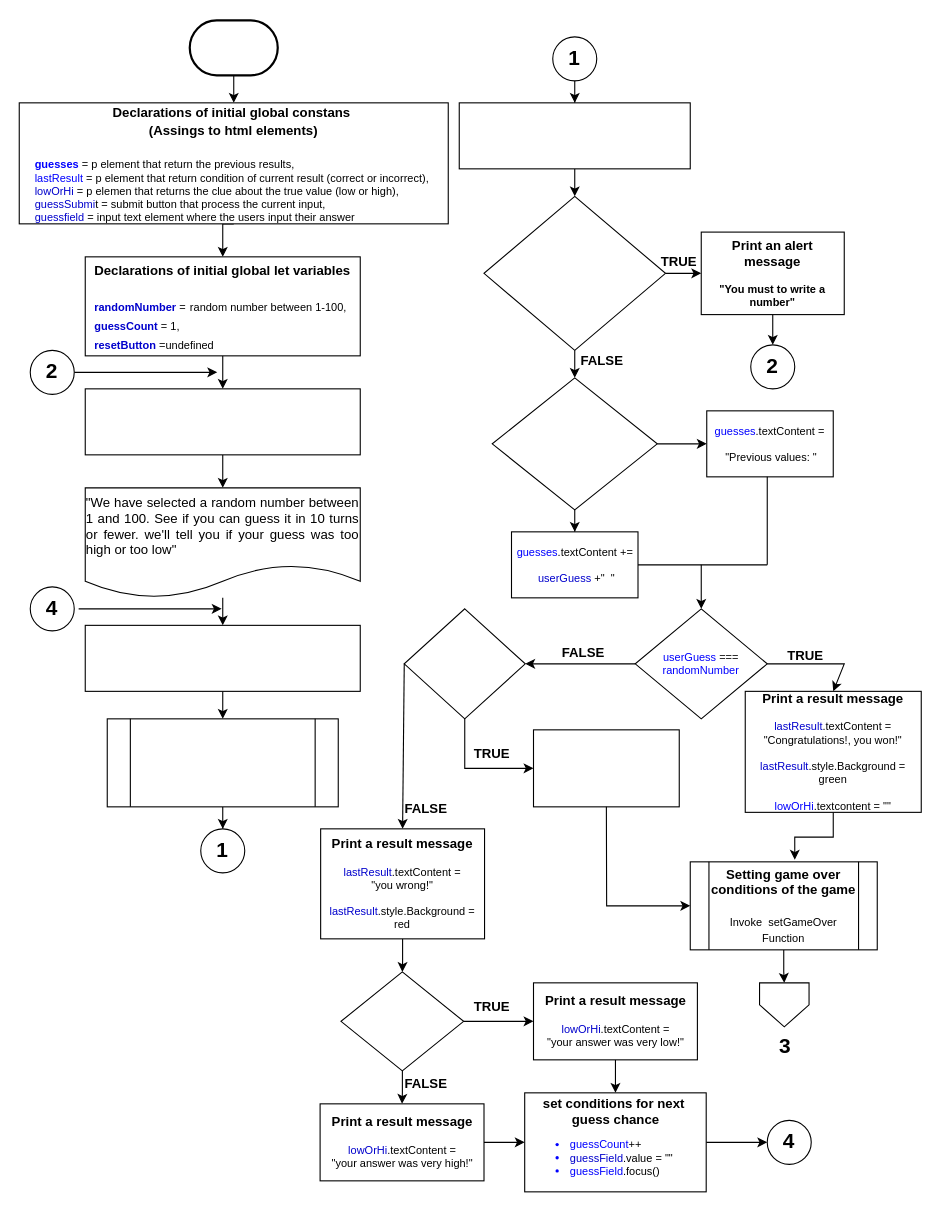
Image size: 941x1211. Some labels were removed from this diagram. Here are the shapes that lost their labels. From the top down, the centre of each, then its label:
pixel 233 47: Start
pixel 574 135: Declaration of local variable userGuess = Number (guessField.value)
pixel 574 272: Input Validation guessField .value == "" OR isNaN( userGuess )
pixel 222 421: Focus of input text element to user put a number answer Focus() method
pixel 574 443: guessCount Validation guessCount == 1
pixel 222 657: User put a number answer and then the user does click to the submit button
pixel 464 663: guessCount === 10
pixel 222 762: Event listener (click event) actived Invoke checkGuess Function
pixel 605 768: Print a result message lastResult .textContent = "you lost... game over!!!!"
pixel 402 1021: userGuess < randomNumber
